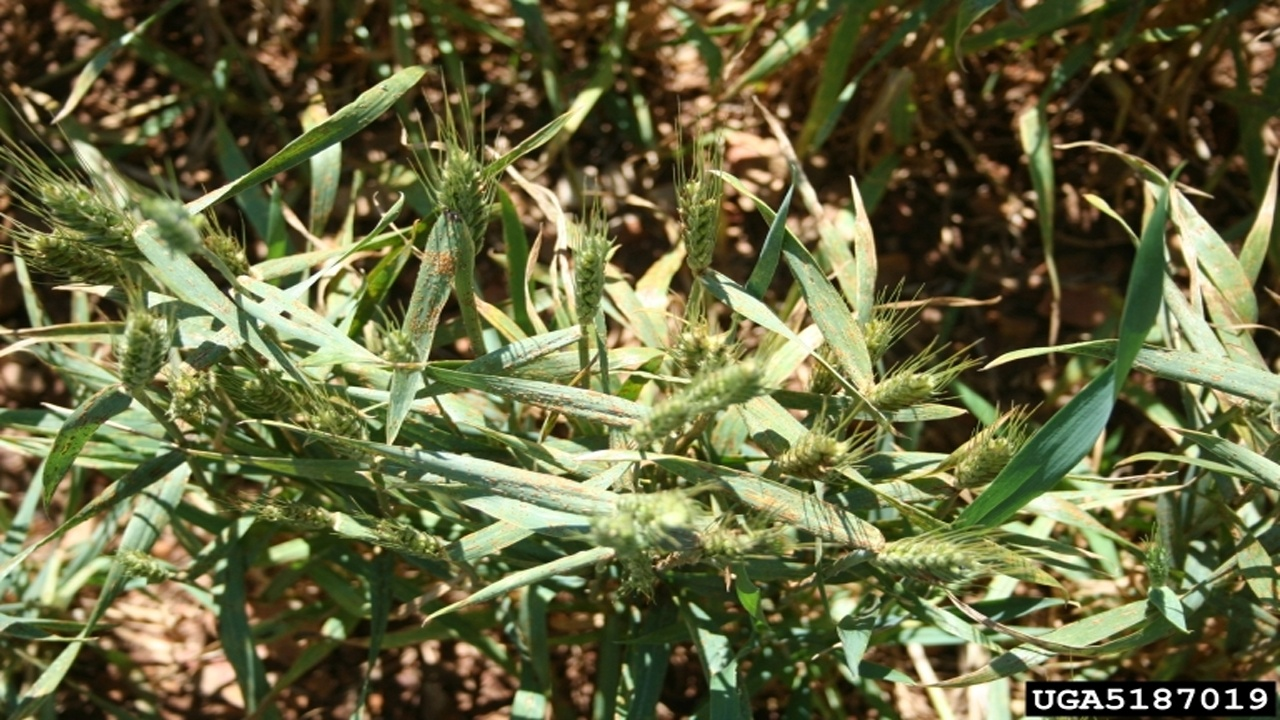leaf_rust: (267, 420, 615, 522), (729, 179, 874, 394), (600, 456, 885, 548), (984, 342, 1278, 406), (388, 222, 457, 431), (479, 377, 651, 433)
